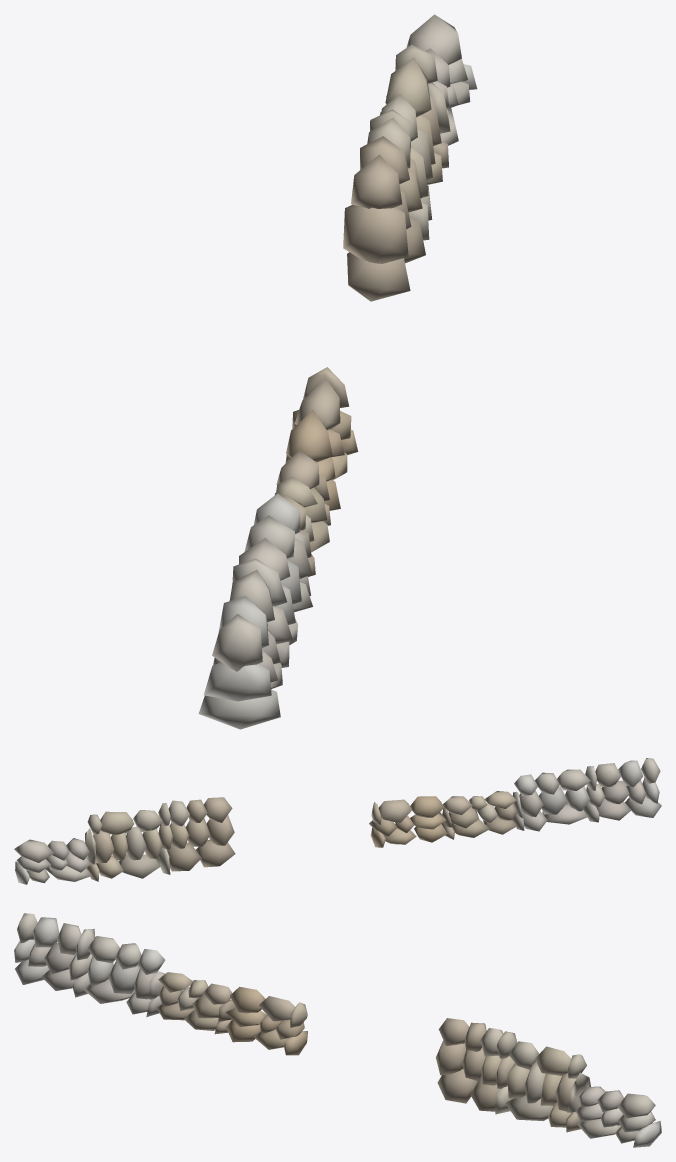
Rendered from farm_25_17_near.glb.
3 renders of one model, top to bottom at view 1: azimuth 30°, elevation 25°; view 2: azimuth 150°, elevation 25°; view 3: azimuth 270°, elevation 25°, orthographic. The views are drawn at different scales.
Parts seen in each view (by area): view 1: geometry_0; view 2: geometry_0; view 3: geometry_0.
Boxes of the visible parts, x1=… form: geometry_0: x1=198, y1=14, x2=477, y2=729; geometry_0: x1=14, y1=758, x2=661, y2=884; geometry_0: x1=14, y1=913, x2=661, y2=1147.
Size of the model in its own units: 8.76 by 1.97 by 10.75.
